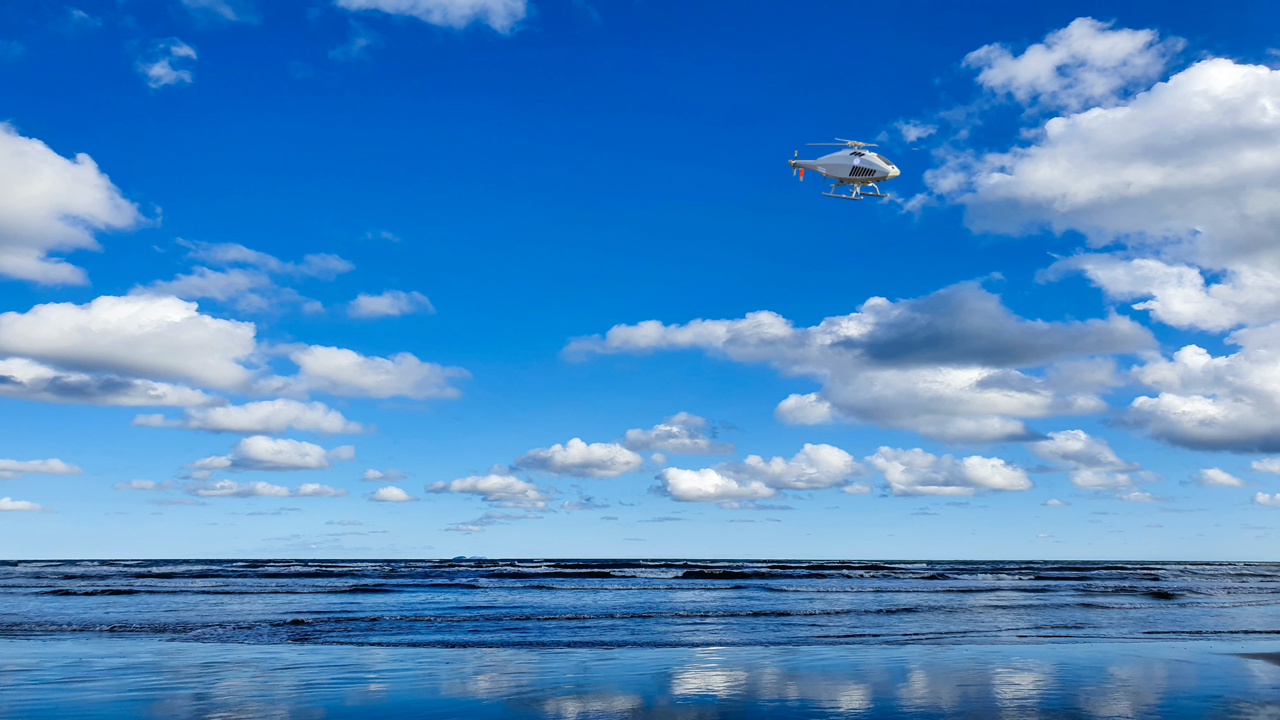military drone: (786, 137, 900, 200)
